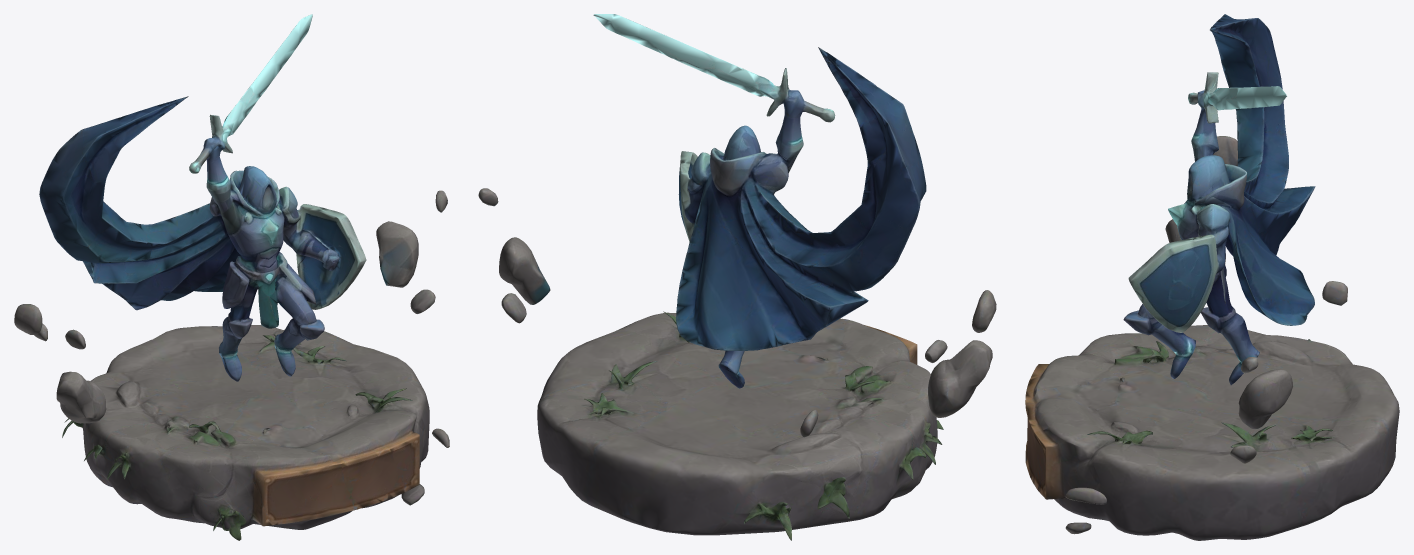
File: bottom_hero.glb
The picture shows the model from 3 angles, left to right: view 1: azimuth 30°, elevation 25°; view 2: azimuth 150°, elevation 25°; view 3: azimuth 270°, elevation 25°; orthographic projection. The views are drawn at different scales.
Size of the model in its own units: 1.88 by 1.77 by 1.31.
Materials: 1 (1 with a texture image).
